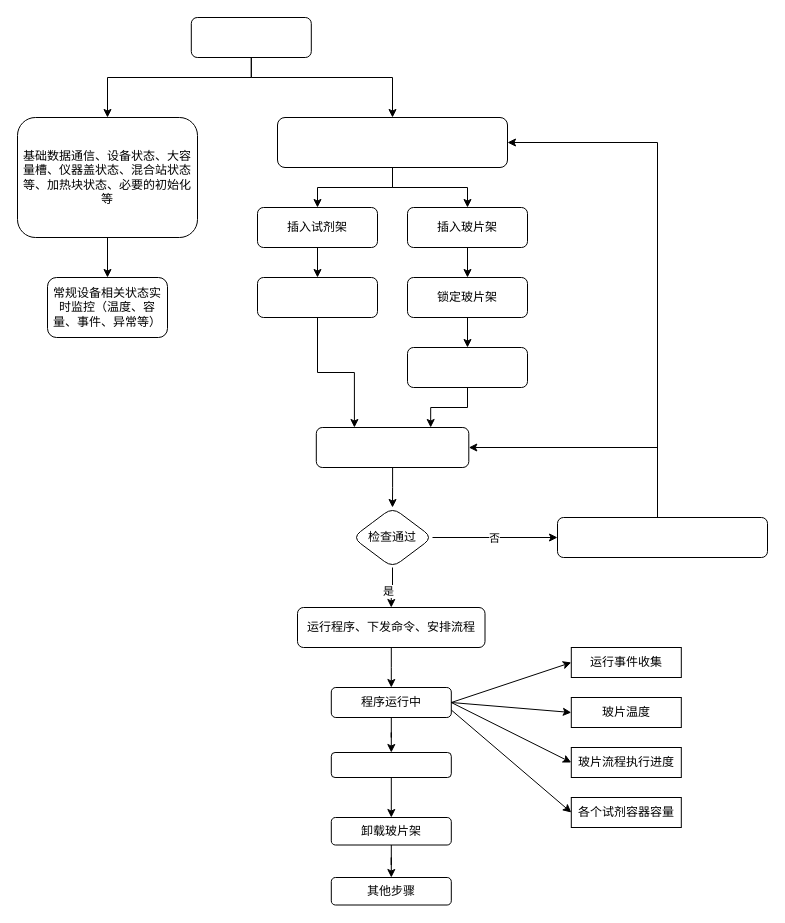
This 785x923 diagram has some shape labels left out. The shapes that lost their labels are listed below. From the top down, each one's box as (x1, y1, x2, y2) in pixels, then its label:
(190, 16, 311, 58): 建立连接
(276, 116, 508, 168): 设置程序、试剂、病例、玻片、打印标签、粘贴、放置玻片架等前置操作
(256, 276, 378, 318): 扫描试剂架
(406, 346, 528, 388): 扫描玻片架
(315, 426, 469, 468): 试剂检查、兼容性检查等
(556, 516, 768, 558): 处理问题、或重新打印插入等操作
(330, 752, 451, 778): 运行结束
